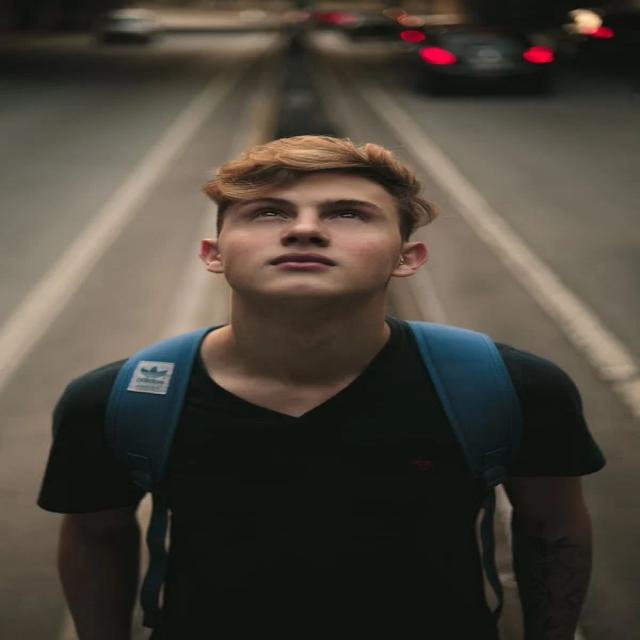Real human 2: (22, 116, 639, 640)
